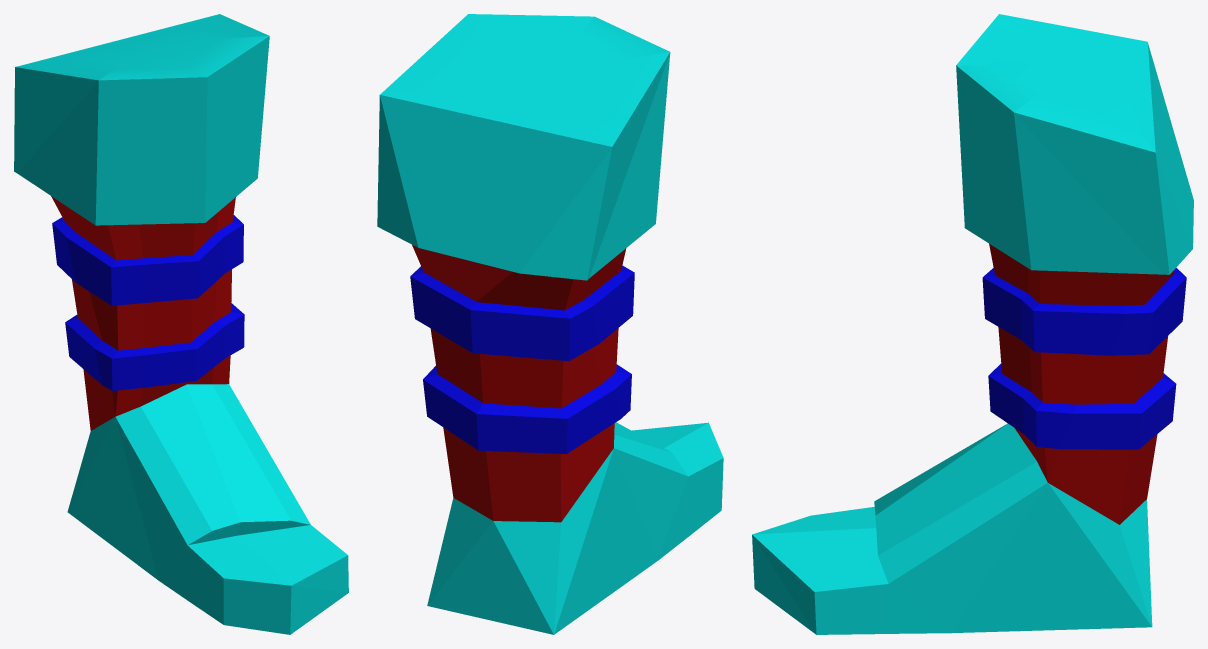
The model's file is Chr_LegRight_Male_Static_07.fbx.
The picture shows the model from 3 angles, left to right: view 1: azimuth 30°, elevation 25°; view 2: azimuth 150°, elevation 25°; view 3: azimuth 270°, elevation 25°; orthographic projection. The views are drawn at different scales.
Parts seen in each view (by area): view 1: Chr_LegRight_Male_07; view 2: Chr_LegRight_Male_07; view 3: Chr_LegRight_Male_07.
Boxes of the visible parts, x1,y1,x2,y2 form: Chr_LegRight_Male_07: (14, 14, 348, 634); Chr_LegRight_Male_07: (377, 14, 723, 634); Chr_LegRight_Male_07: (752, 14, 1193, 634).
Bounding box in the file's own units: 18.16 × 40.88 × 30.71.
